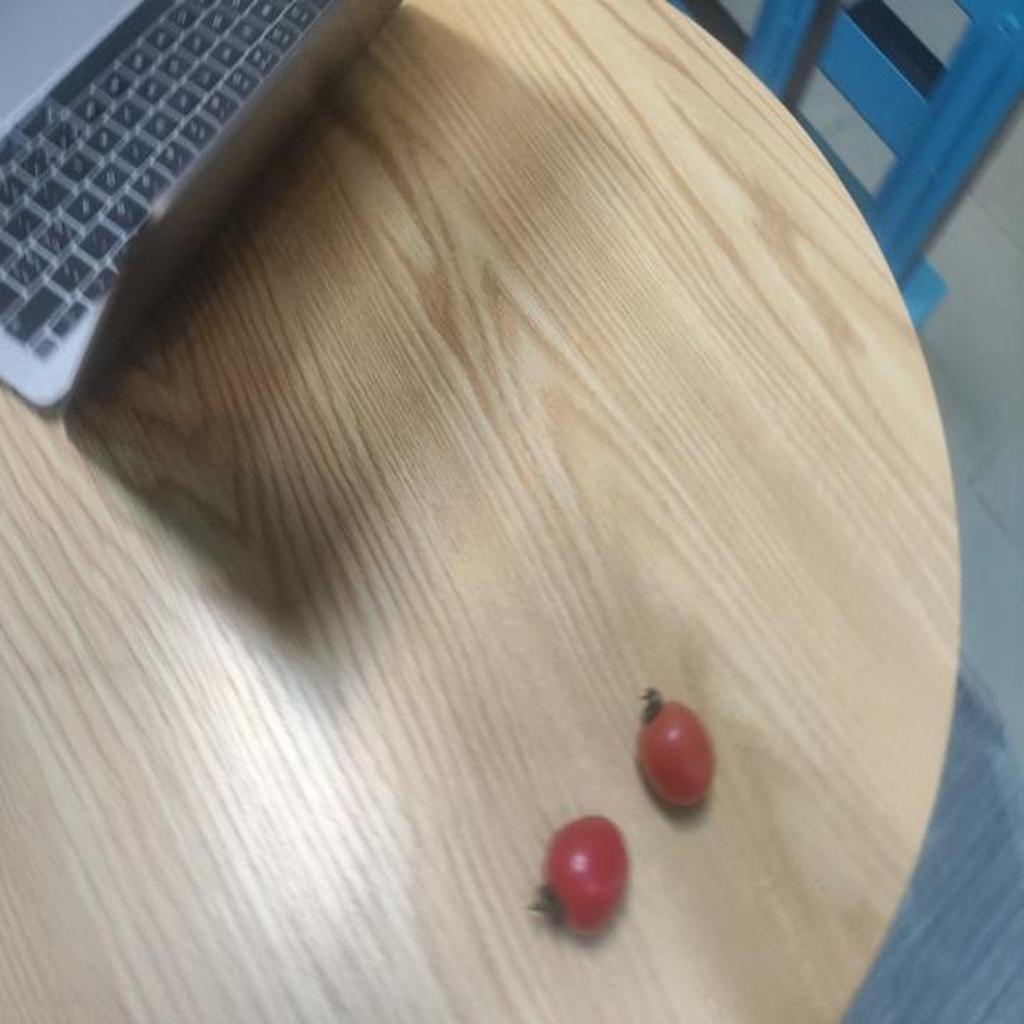tomato: (536, 813, 632, 947), (626, 694, 722, 814)
